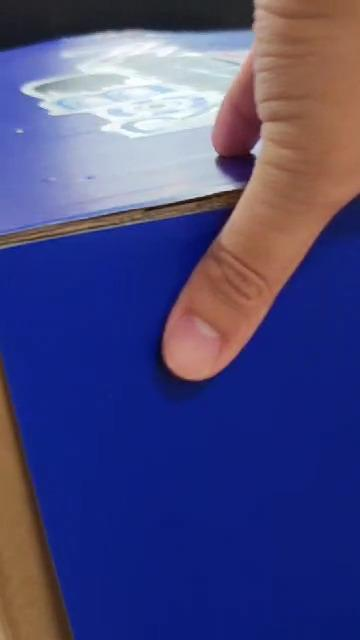B_R1: (204, 381, 360, 640)
